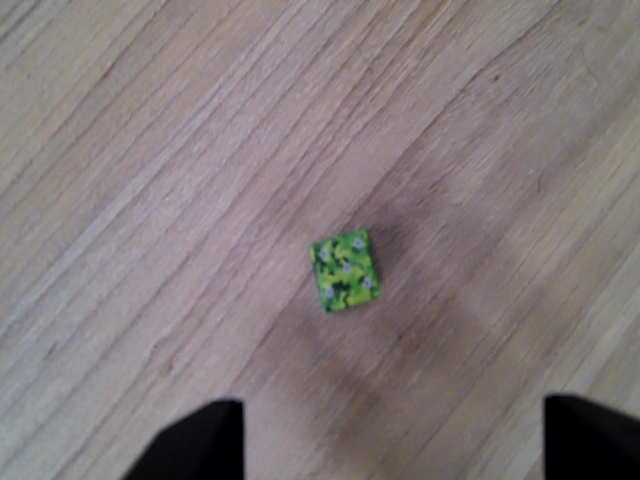grass: (306, 228, 383, 319)
